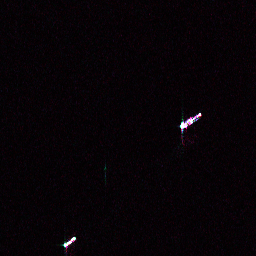ship: (178, 109, 202, 132), (61, 233, 78, 250)
